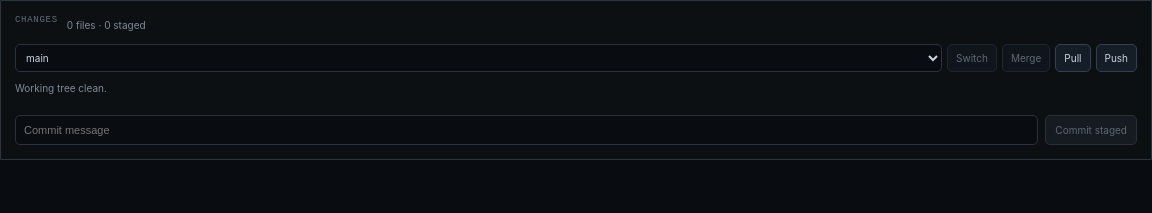
merges the selected branch and refreshes status after a merge conflict
Select "feature" in the dropdown named "Branch". click: (479, 58)
box: [15, 44, 942, 72]
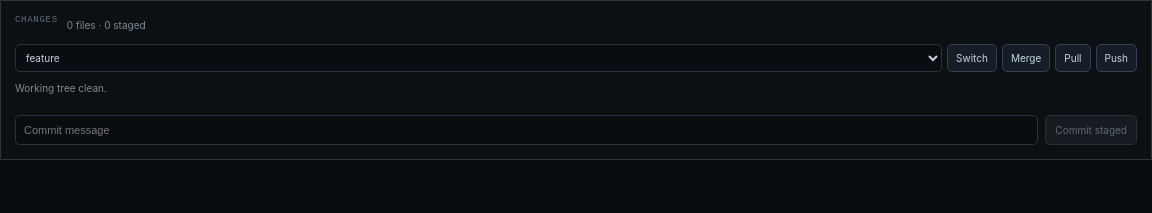
Click the button "Merge". click: (1026, 58)
box: [1002, 44, 1050, 72]
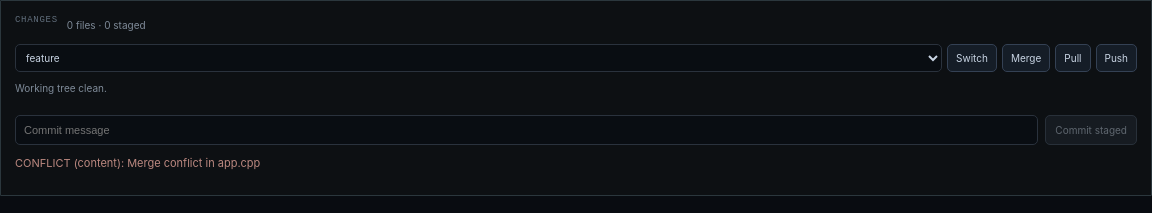
Expected: the message shows "Merge conflict", [15, 156, 260, 170]
